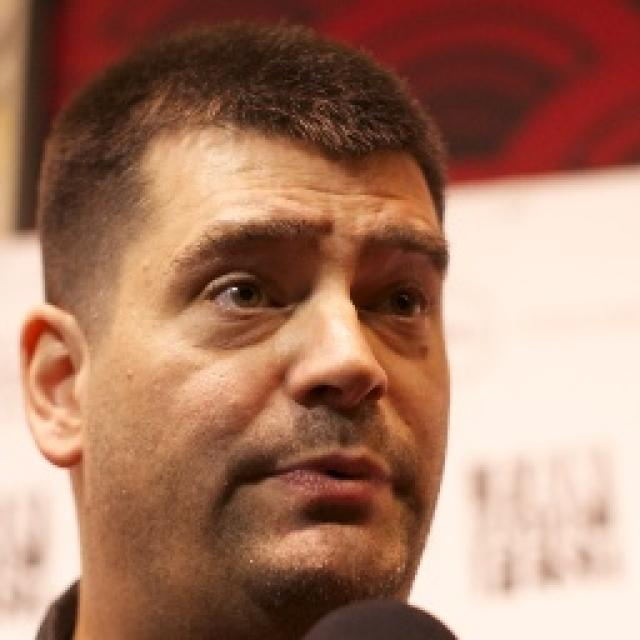earlobe: (43, 414, 86, 468)
eye: (204, 279, 276, 311), (375, 288, 429, 318)
nose: (296, 389, 378, 446)
wholeear: (15, 305, 86, 470)
